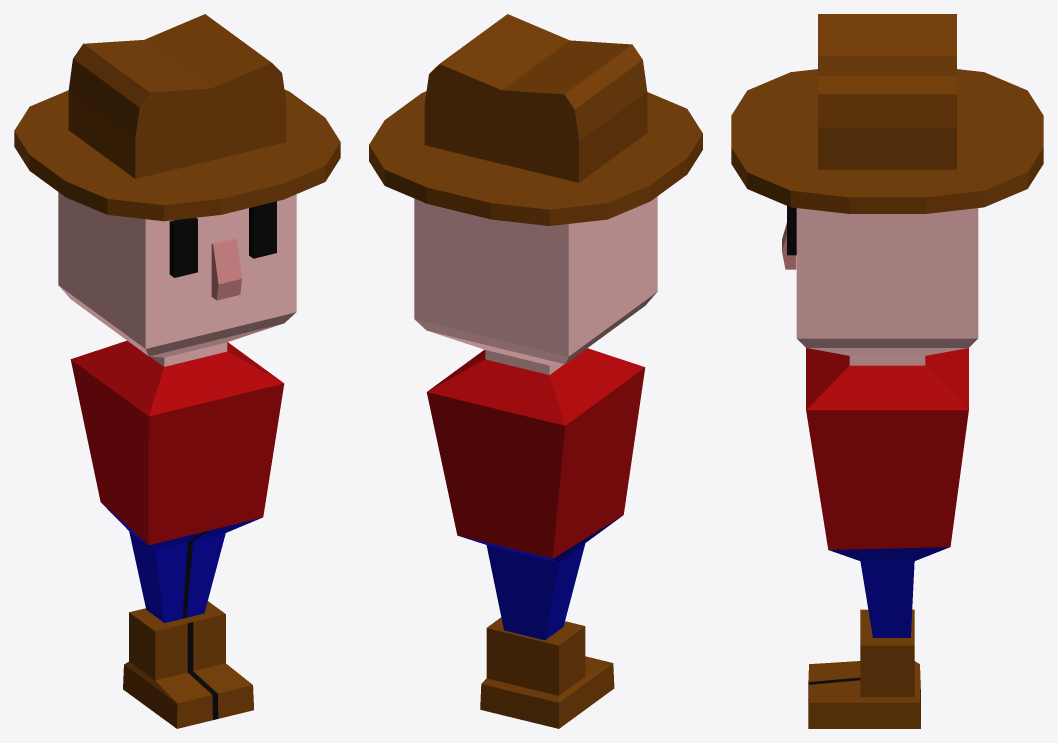
Rendered from TempChar.glb.
The picture shows the model from 3 angles, left to right: view 1: azimuth 30°, elevation 25°; view 2: azimuth 150°, elevation 25°; view 3: azimuth 270°, elevation 25°; orthographic projection. The views are drawn at different scales.
Visible parts, largest first — view 1: Cube.005; view 2: Cube.005; view 3: Cube.005.
Boxes of the visible parts, left/top/right/bottom form: Cube.005: left=14, top=14, right=340, bottom=728; Cube.005: left=369, top=14, right=702, bottom=728; Cube.005: left=731, top=14, right=1043, bottom=728.
Bounding box in the file's own units: 0.9588 × 2.25 × 0.9588.
1 material, 1 textured.
